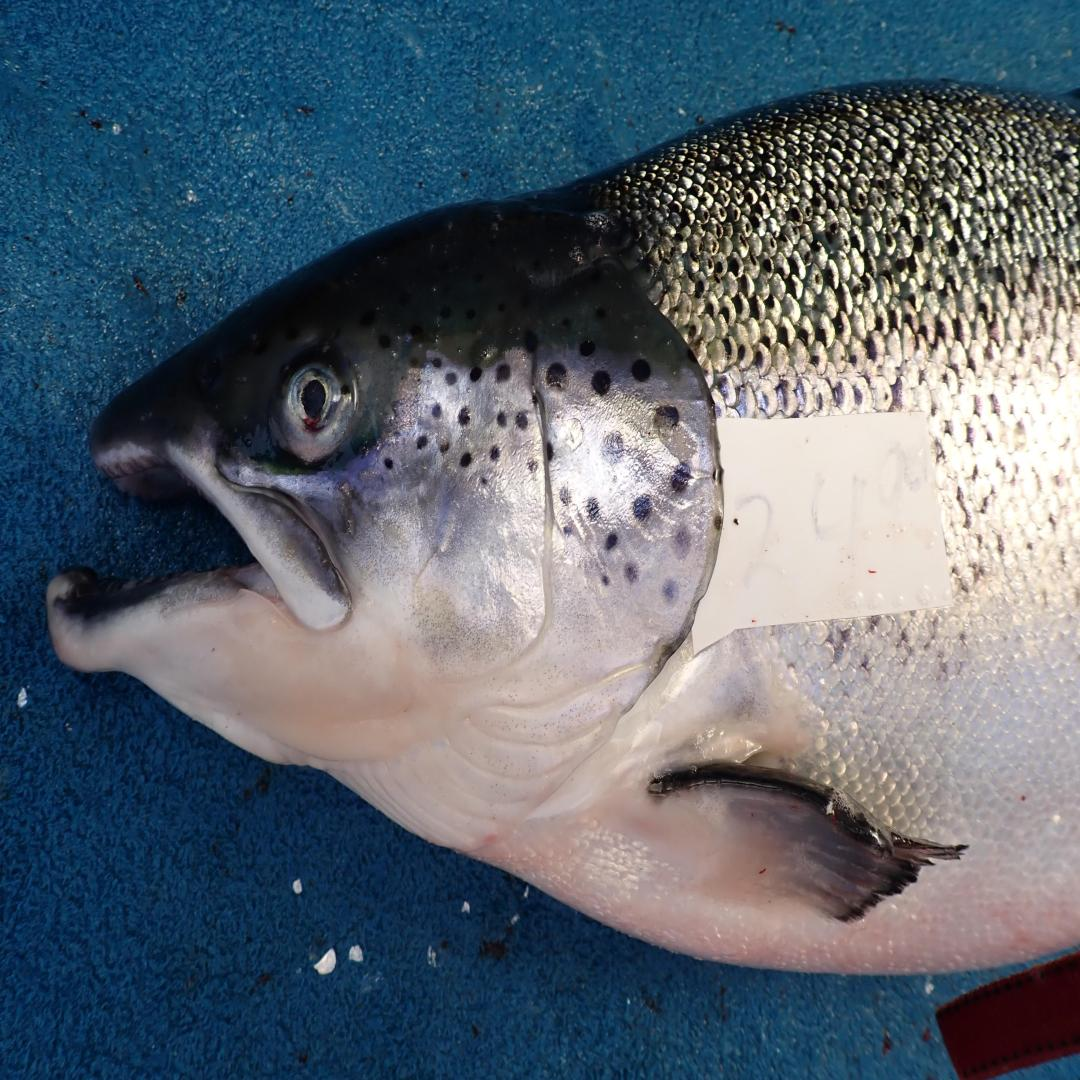spot: (654, 405, 698, 461), (601, 430, 624, 464), (660, 577, 681, 608), (673, 526, 692, 560), (671, 464, 692, 492), (591, 371, 612, 397), (546, 363, 567, 388), (633, 495, 652, 520), (631, 357, 650, 382), (529, 385, 544, 408), (524, 330, 538, 352), (624, 562, 639, 582), (586, 498, 599, 520), (603, 532, 618, 551), (579, 340, 596, 356), (496, 363, 510, 382), (515, 411, 529, 430), (559, 487, 572, 506), (468, 366, 483, 382), (430, 402, 443, 419), (544, 442, 555, 461), (458, 408, 470, 425), (416, 433, 428, 450), (496, 411, 508, 428), (445, 371, 458, 385), (527, 458, 540, 472), (439, 439, 449, 456), (460, 453, 472, 467), (489, 447, 500, 461), (713, 518, 724, 532), (714, 467, 723, 484), (384, 456, 394, 470), (562, 523, 572, 536), (430, 357, 441, 367), (601, 574, 610, 585), (480, 476, 488, 486)
